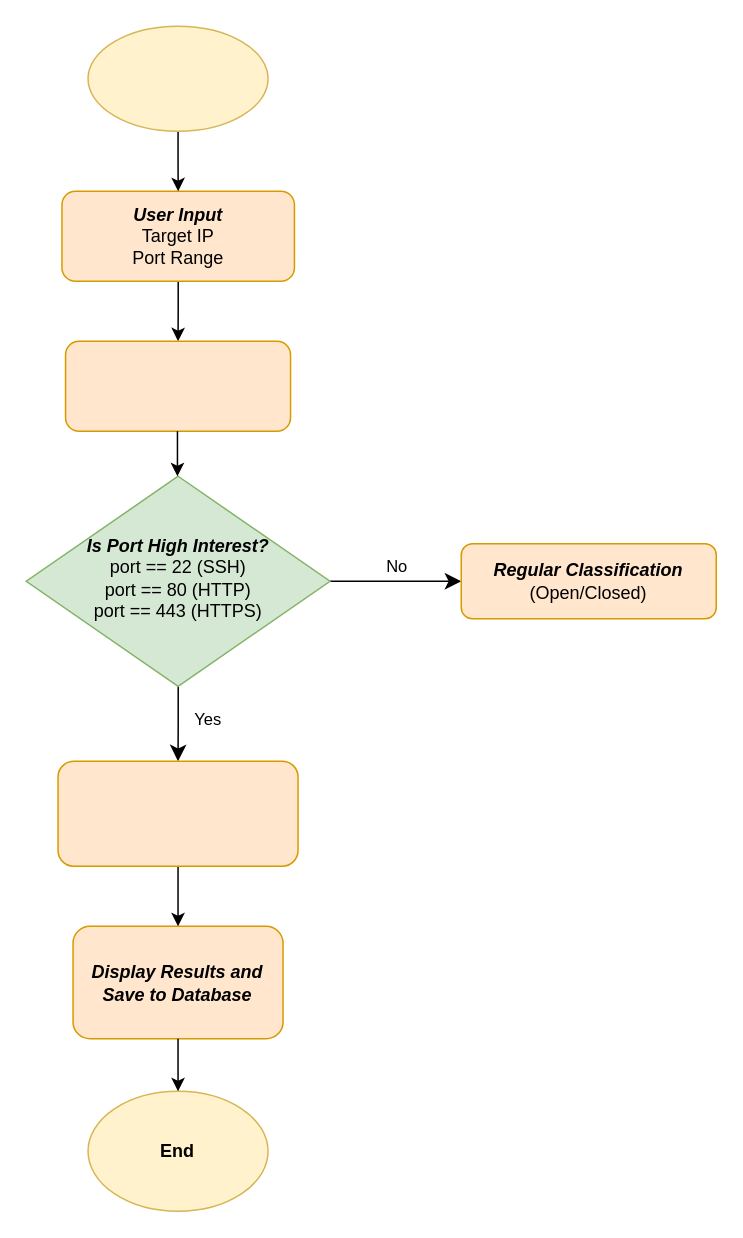
Image size: 743x1238. Some labels were removed from this diagram. Each missing label, with the box of its shape:
Port Scanner Runs scan_port() scan_range(): (64, 340, 291, 431)
Security-Relevant Port Detected Highlight/Mark As Important: (57, 760, 298, 866)
Start: (87, 25, 268, 131)
